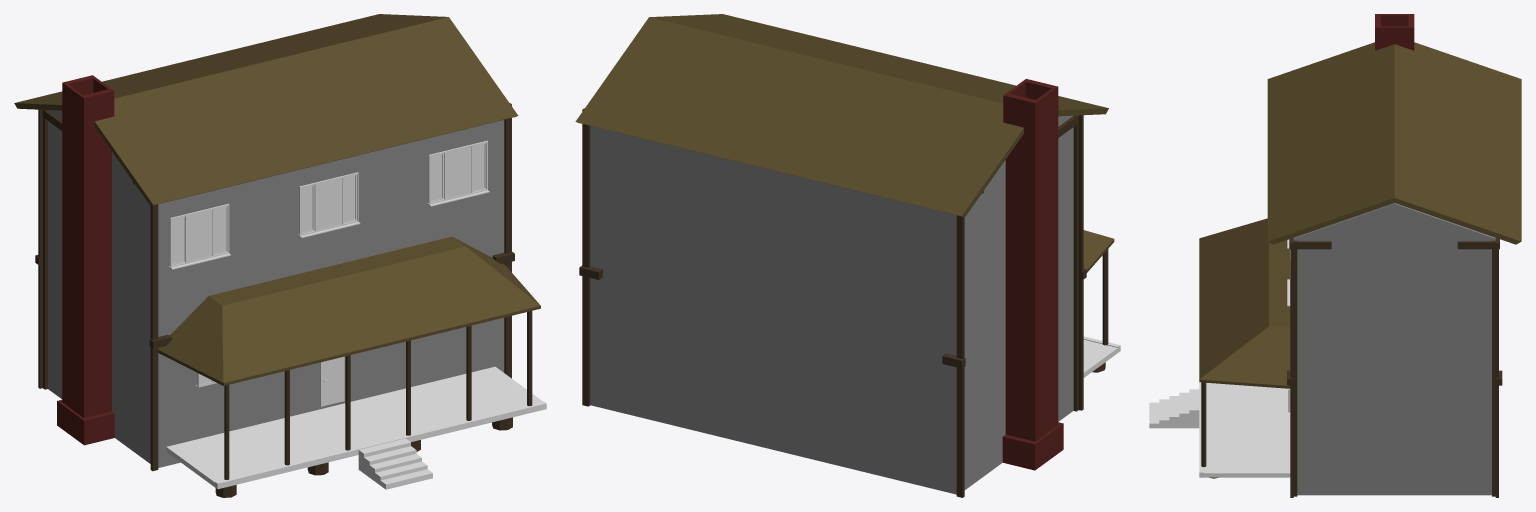
File: SM_2StoryHouse_2.fbx
The picture shows the model from 3 angles, left to right: view 1: azimuth 30°, elevation 25°; view 2: azimuth 150°, elevation 25°; view 3: azimuth 270°, elevation 25°; orthographic projection. The views are drawn at different scales.
Visible parts, largest first — view 1: Cube.019, Cube.014, Cube.013, Cube.017, Cube.018, Cylinder.003, Window.009, Window.008, Window.010, Cube.015, Door.002, Cylinder.002; view 2: Cube.019, Cube.013, Cube.018, Cube.017, Cube.014, Cylinder.003; view 3: Cube.019, Cube.014, Cube.017, Cube.018, Cube.013, Cube.015, Cylinder.003, Cube.016.
Part boxes in pixels (x1=…): Cube.019: x1=14, y1=14, x2=518, y2=467; Cube.014: x1=158, y1=236, x2=540, y2=385; Cube.013: x1=57, y1=75, x2=114, y2=445; Cube.017: x1=166, y1=366, x2=546, y2=489; Cube.018: x1=35, y1=103, x2=514, y2=471; Cylinder.003: x1=224, y1=311, x2=532, y2=479; Window.009: x1=298, y1=172, x2=360, y2=238; Window.008: x1=427, y1=140, x2=489, y2=206; Window.010: x1=168, y1=203, x2=230, y2=269; Cube.015: x1=358, y1=438, x2=432, y2=489; Door.002: x1=323, y1=357, x2=342, y2=405; Cylinder.002: x1=215, y1=417, x2=512, y2=497; Cube.019: x1=575, y1=14, x2=1108, y2=494; Cube.013: x1=1002, y1=79, x2=1063, y2=470; Cube.018: x1=579, y1=108, x2=1086, y2=497; Cube.017: x1=1083, y1=336, x2=1120, y2=377; Cube.014: x1=1083, y1=230, x2=1114, y2=272; Cylinder.003: x1=1102, y1=249, x2=1108, y2=345; Cube.019: x1=1267, y1=42, x2=1521, y2=495; Cube.014: x1=1199, y1=218, x2=1290, y2=388; Cube.017: x1=1199, y1=382, x2=1290, y2=477; Cube.018: x1=1287, y1=238, x2=1502, y2=497; Cube.013: x1=1375, y1=14, x2=1414, y2=50; Cube.015: x1=1149, y1=389, x2=1199, y2=428; Cylinder.003: x1=1201, y1=382, x2=1206, y2=466; Cube.016: x1=1157, y1=410, x2=1199, y2=428.
Bounding box in the file's own units: 1639 × 1400 × 1504.
